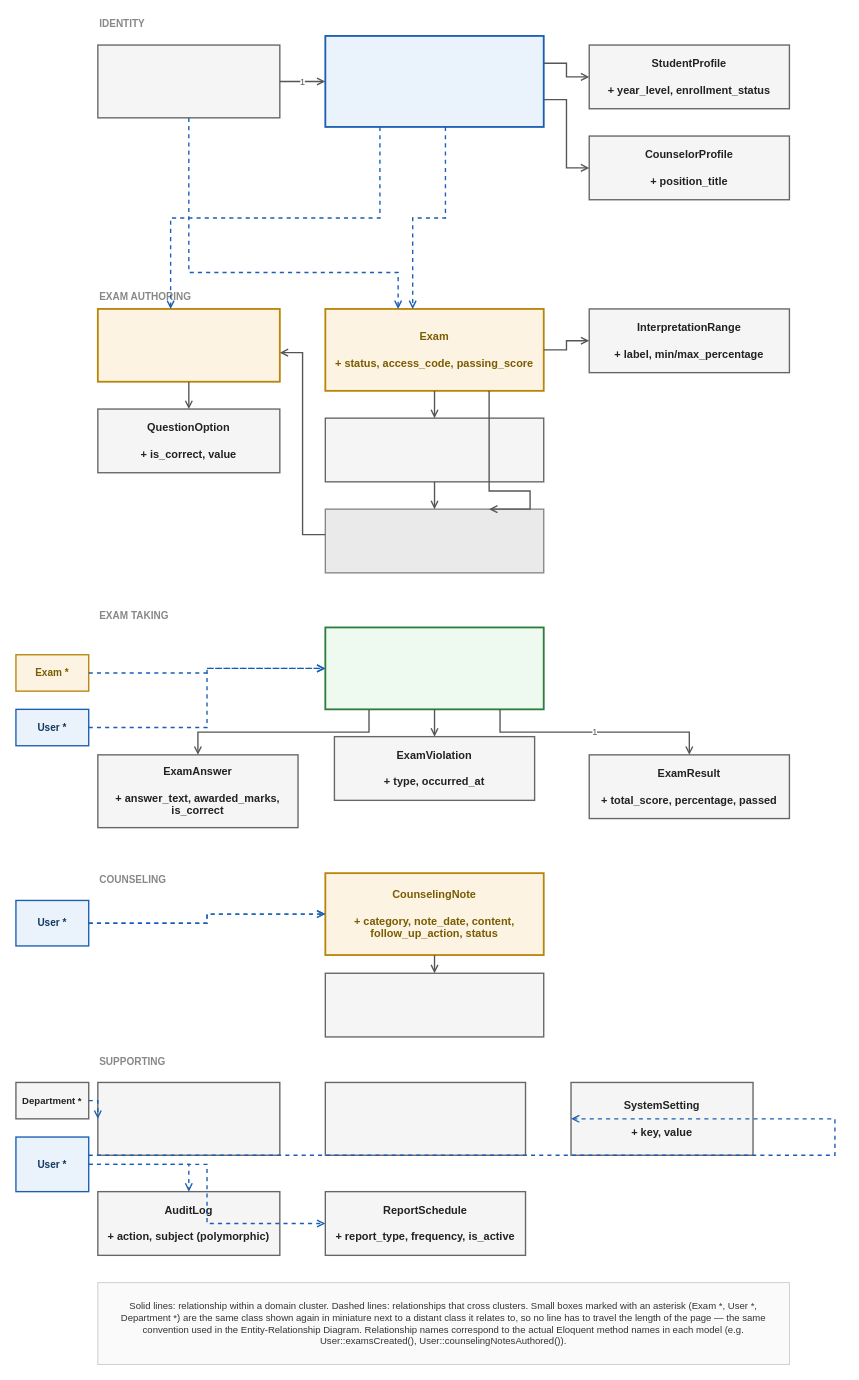
This 859x1380 diagram has some shape labels left out. The shapes that lost their labels are listed below. From the top down, each one's centre as x and y in pixels, then its label:
the point at 188,81: Department + name, code
the point at 434,81: User + school_id, role, status + isSuperAdmin() / isCounselor() / isStudent()
the point at 188,345: Question + type, difficulty, status, marks
the point at 434,449: ExamSection + title, order
the point at 434,540: ExamQuestion (pivot) + order, marks_override
the point at 434,668: ExamSession + status, active_session_lock
the point at 434,1004: CounselingNoteRevision + (immutable snapshot fields)
the point at 188,1118: Course + name, code, duration_years
the point at 425,1118: YearLevel + name, order, is_active (no relationships — standalone)
